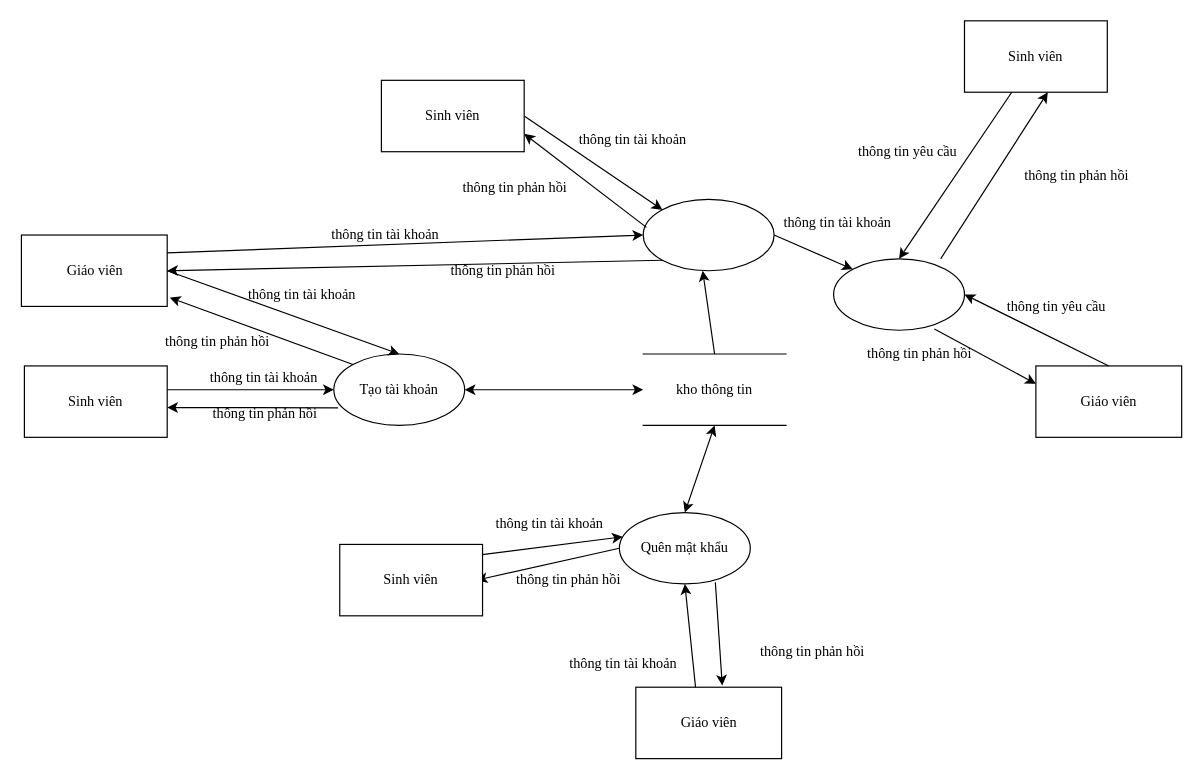
Image size: 1202x779. Some labels were removed from this diagram. The centre of each missing label's shape, as x and y in pixels:
Đăng nhập: the point at 708,234
Đăng xuất: the point at 898,294
